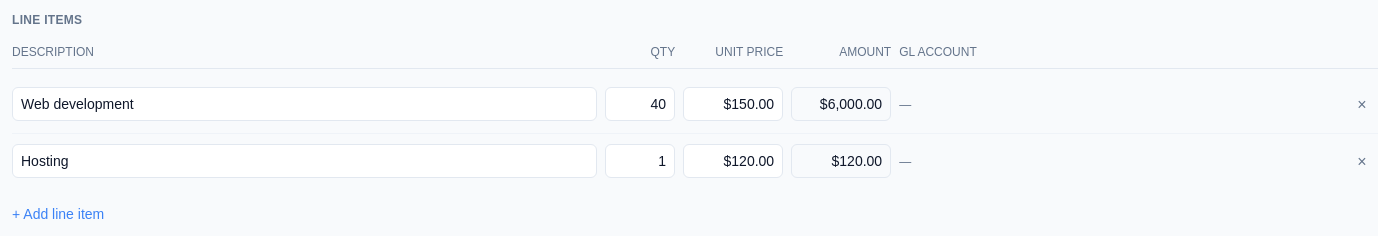
Scenario: LineItemEditor › auto-calculates amount when qty changes
Replace the text in the 2nd field showing "40" with "50" at (640, 104), box [605,87,675,121]
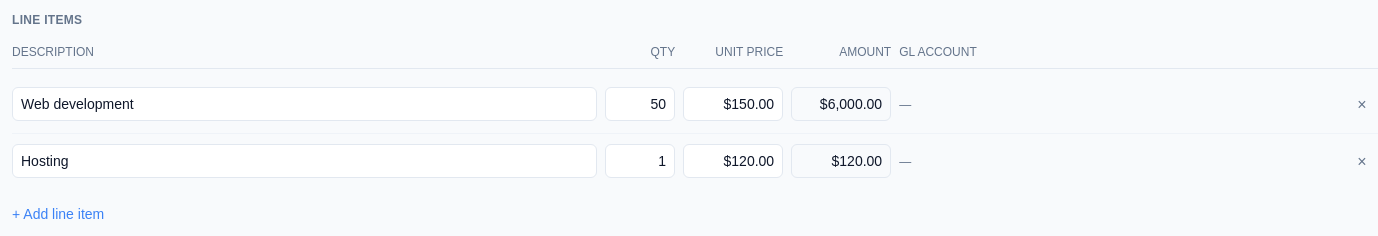
Leave the 2nd field showing "40", box [605,87,675,121]
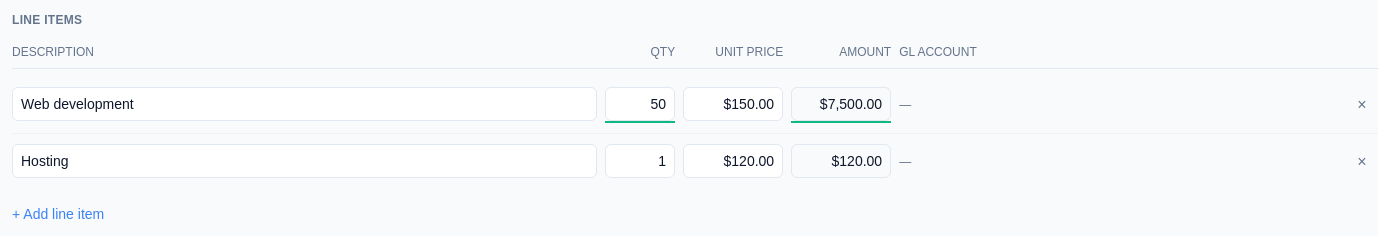
Expected: the 4th field showing "$7,500.00" is shown, [791,87,891,121]
